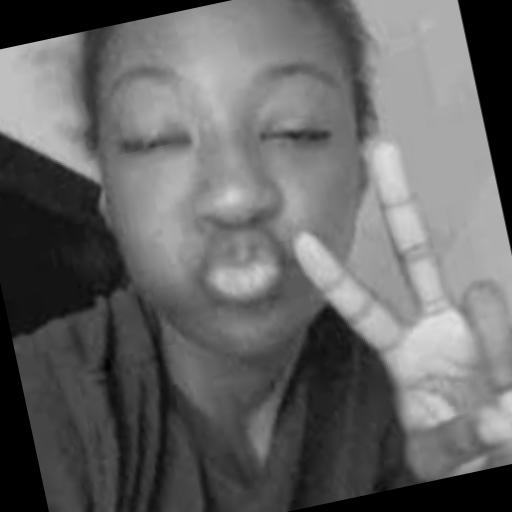Peace: (278, 101, 512, 497)
